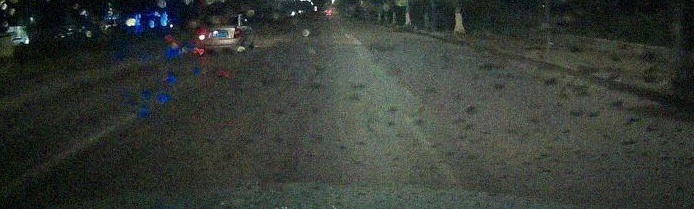L_light: (199, 30, 206, 41)
R_light: (234, 28, 241, 38)
T_light: (220, 17, 226, 19)
night-left: (198, 14, 242, 55)
